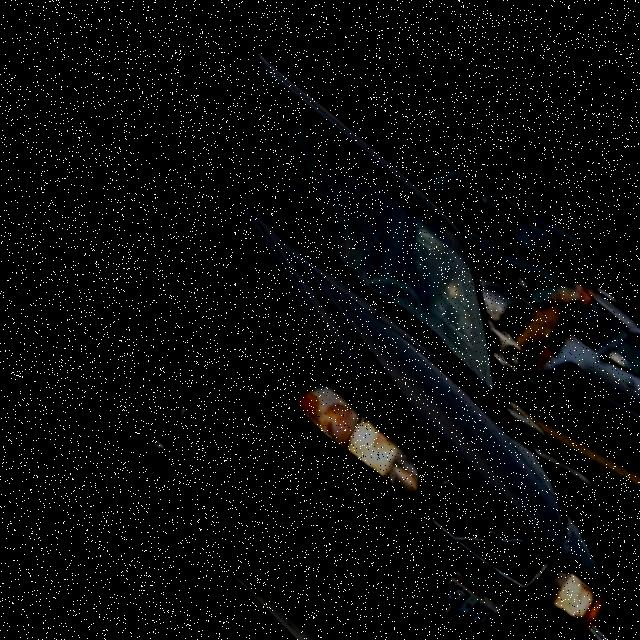license_plate: (405, 542, 492, 629)
